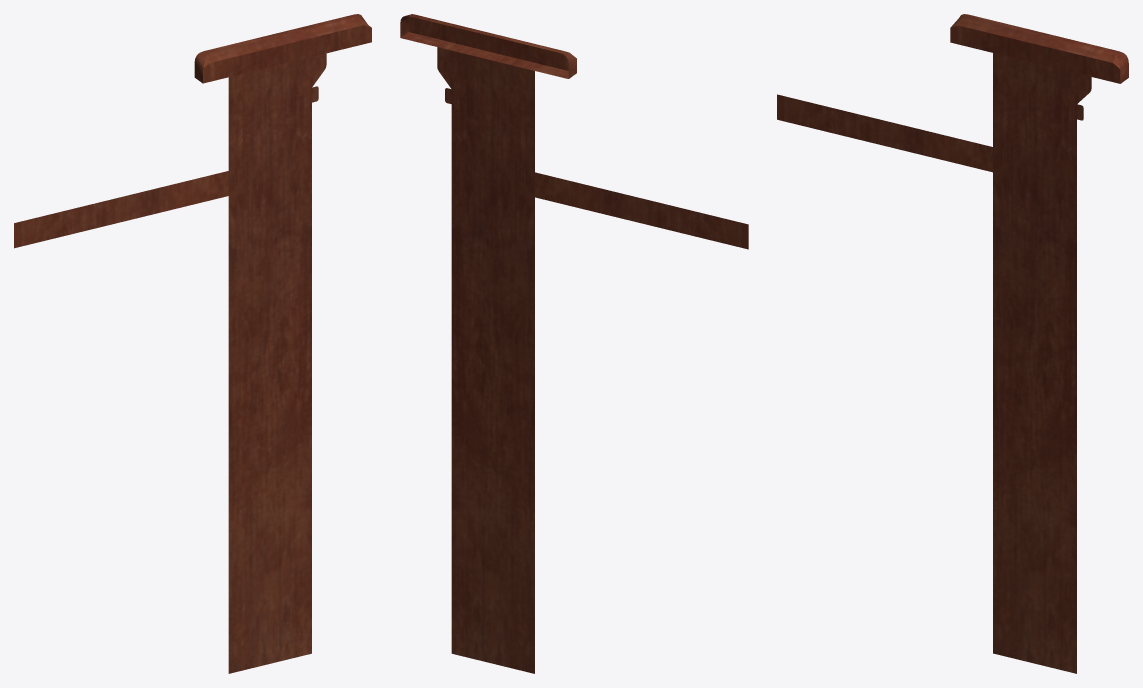
The model's file is ReceptionDesk01_4.FBX.
3 views of the same model, side by side, from view 1: azimuth 30°, elevation 25°; view 2: azimuth 150°, elevation 25°; view 3: azimuth 330°, elevation 25° (orthographic).
Visible parts, largest first — view 1: ReceptionDesk01_4; view 2: ReceptionDesk01_4; view 3: ReceptionDesk01_4.
Boxes of the visible parts, x1,y1,x2,y2 form: ReceptionDesk01_4: (14, 14, 371, 673); ReceptionDesk01_4: (400, 14, 748, 673); ReceptionDesk01_4: (777, 14, 1128, 673).
Size of the model in its own units: 727 by 1250 by 30.01.
